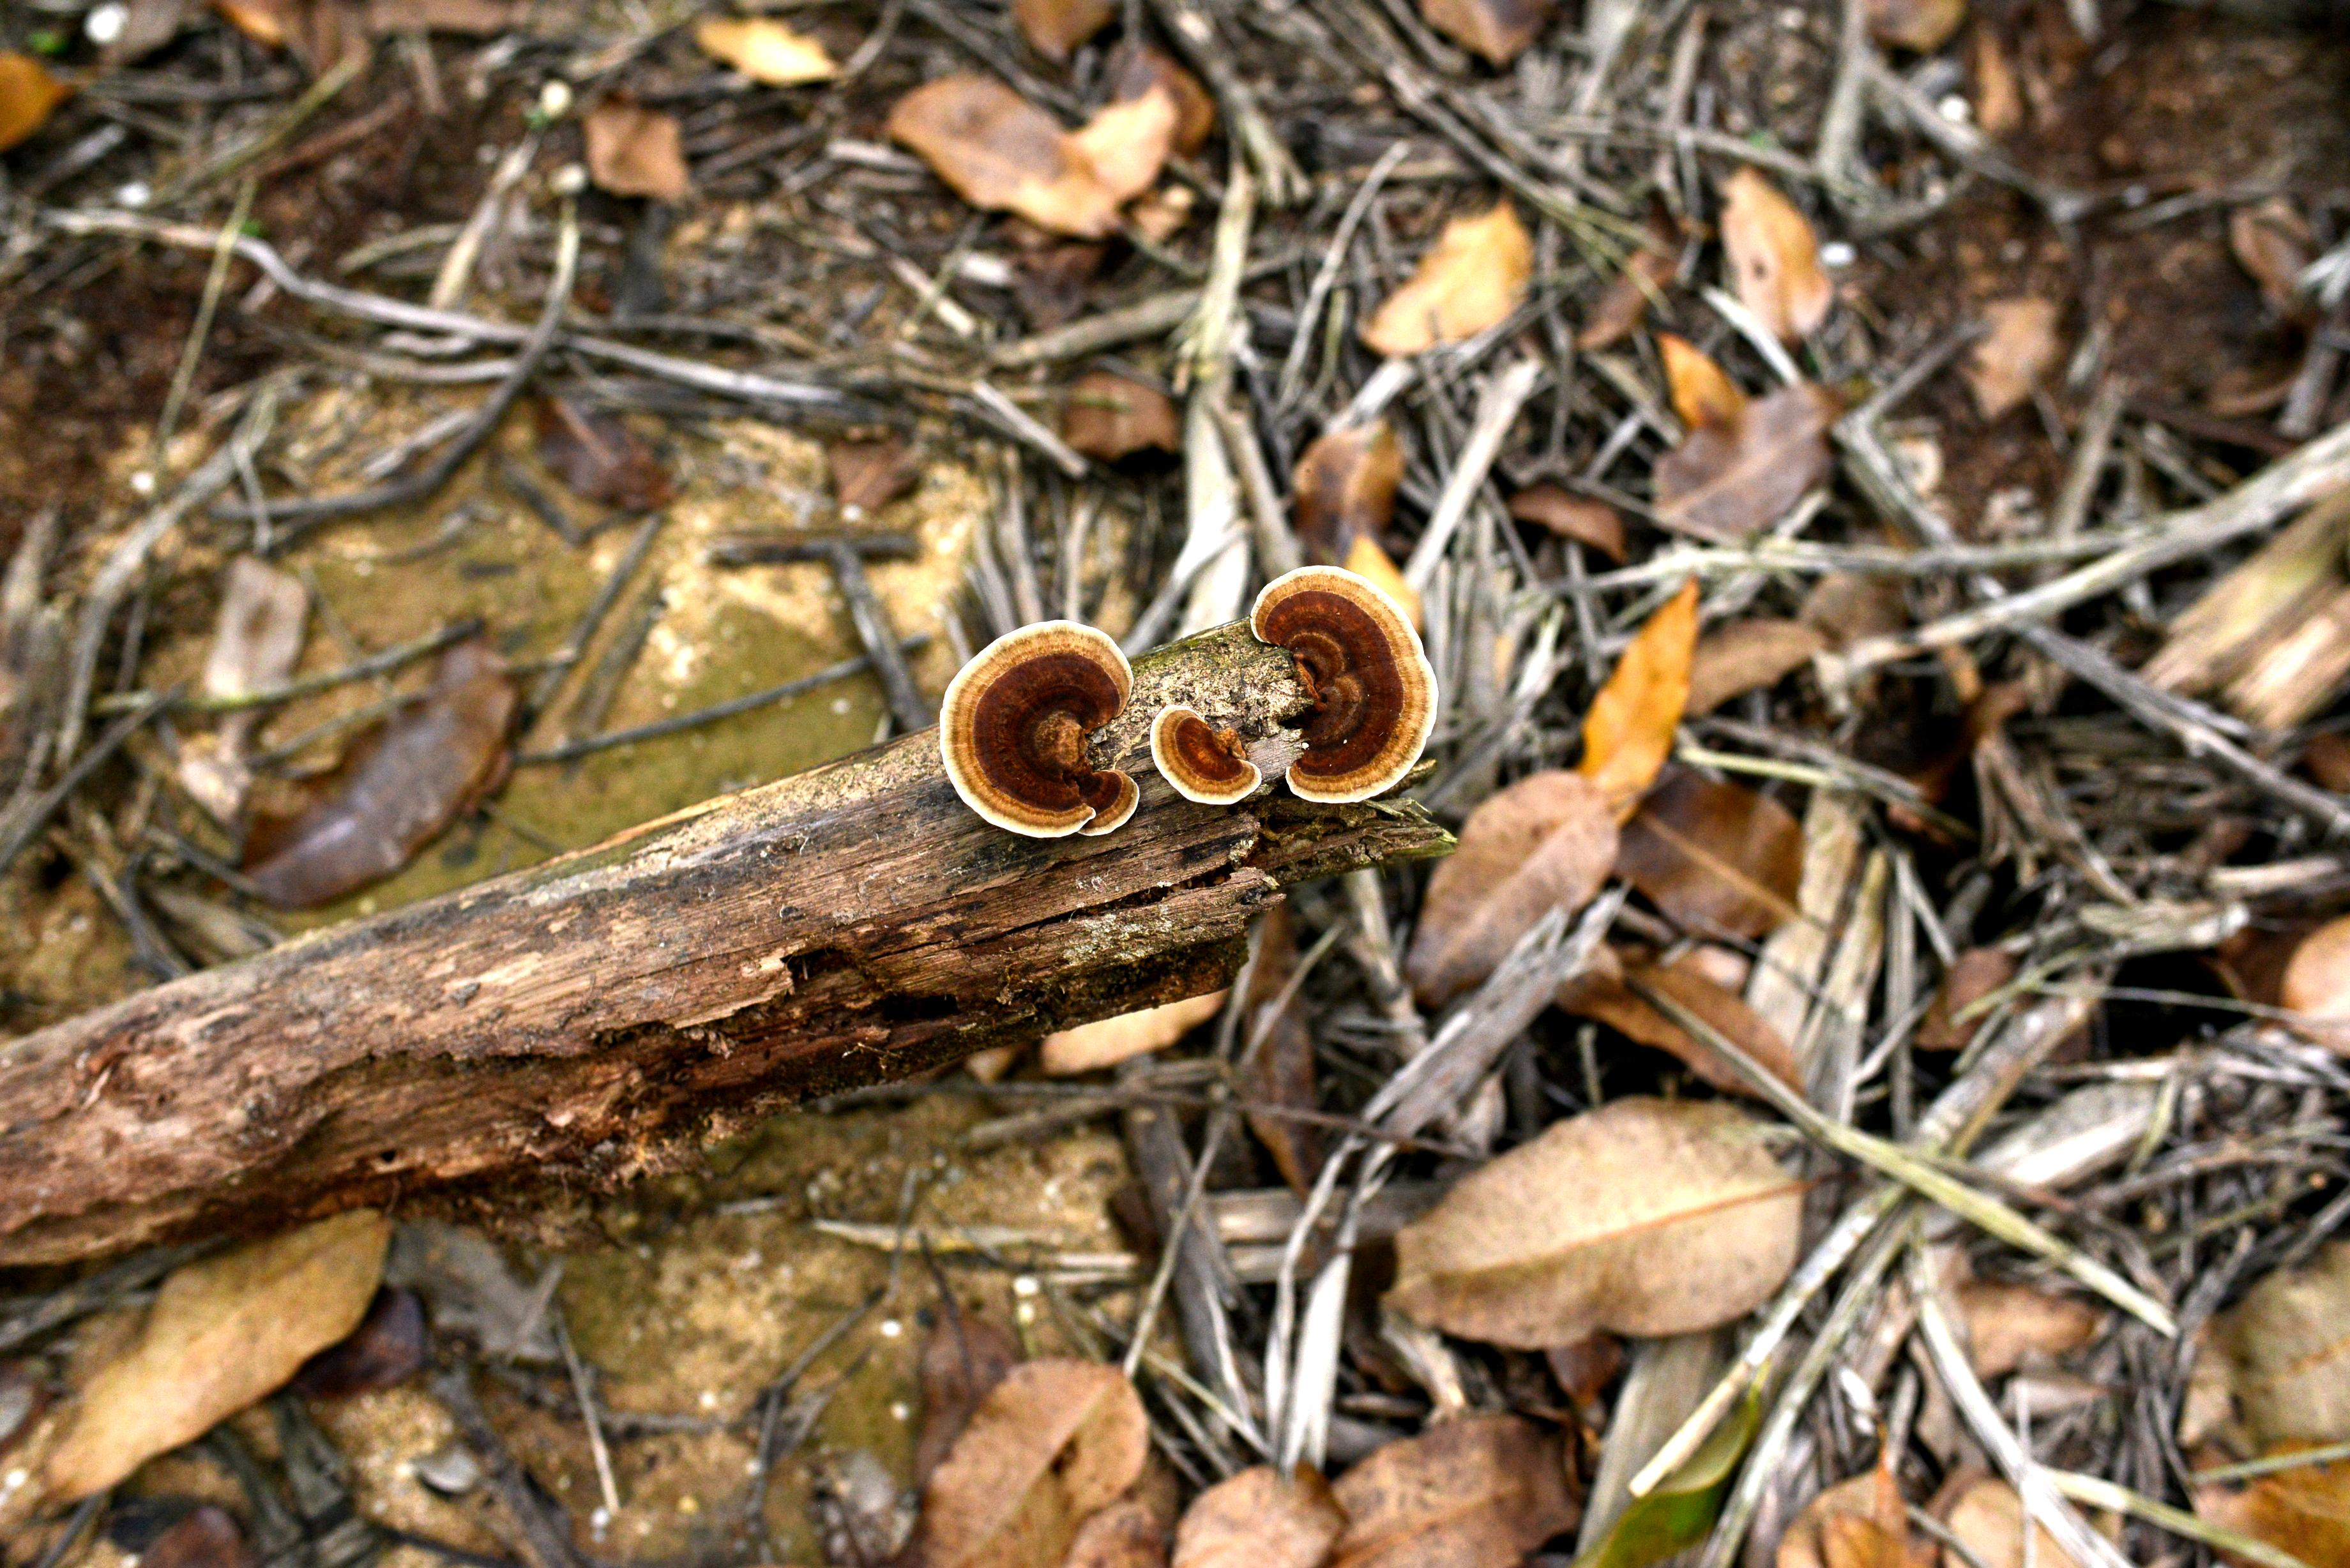Ganoderma - Fruit Body: (1258, 553, 1459, 807), (940, 614, 1143, 864), (1150, 696, 1253, 815)
